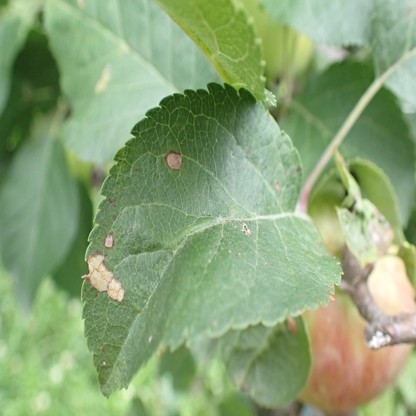frogeye_leaf_spot: (81, 253, 123, 303), (164, 152, 183, 170), (241, 223, 251, 238), (104, 234, 113, 248)
